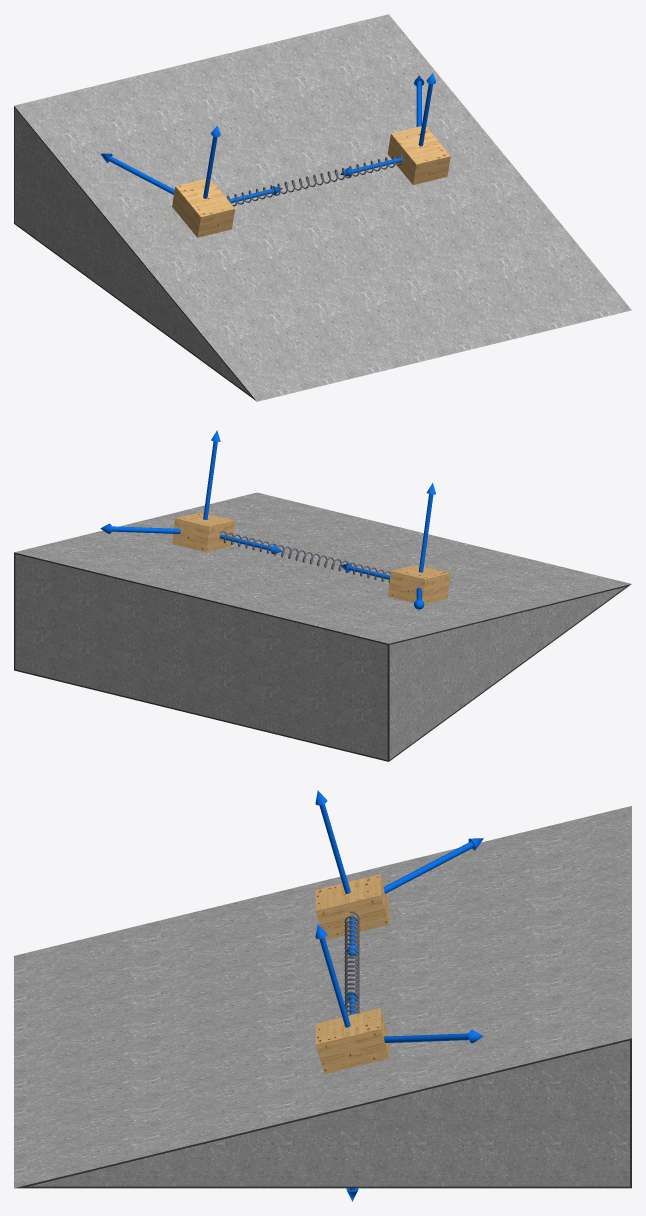
Rendered from tanhuang.gltf.
3 views of the same model, one above another, from view 1: azimuth 30°, elevation 25°; view 2: azimuth 150°, elevation 25°; view 3: azimuth 270°, elevation 25° (orthographic). The views are drawn at different scales.
Parts seen in each view (by area): view 1: 对象017; view 2: 对象017; view 3: 对象017.
Boxes of the visible parts, x1,y1,x2,y2 form: 对象017: (14, 14, 631, 401); 对象017: (14, 430, 631, 761); 对象017: (14, 790, 631, 1201).
Size of the model in its own units: 164 by 91.48 by 184.
8 materials, 8 textured.
